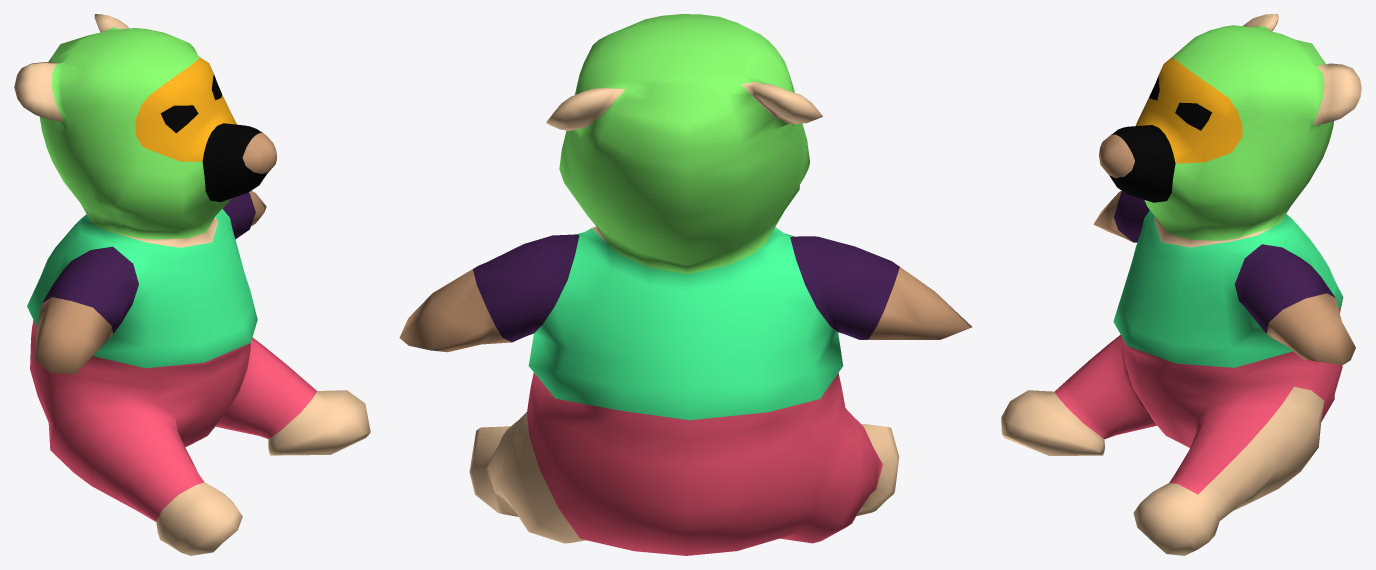
The model's file is ToyObject_070.fbx.
The picture shows the model from 3 angles, left to right: view 1: azimuth 30°, elevation 25°; view 2: azimuth 150°, elevation 25°; view 3: azimuth 270°, elevation 25°; orthographic projection. The views are drawn at different scales.
Visible parts, largest first — view 1: object-1.033; view 2: object-1.033; view 3: object-1.033.
Boxes of the visible parts, x1,y1,x2,y2 form: object-1.033: (14,14,370,555); object-1.033: (399,14,971,555); object-1.033: (1001,14,1361,555).
Bounding box in the file's own units: 0.1381 × 0.1574 × 0.1217.
